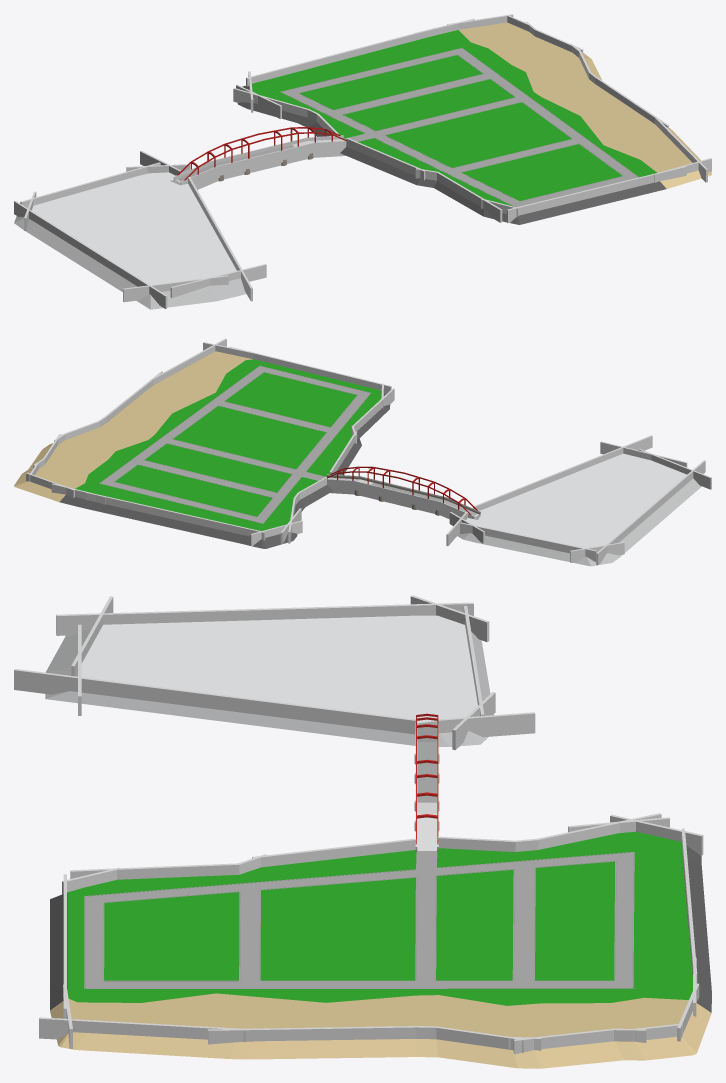
The model's file is map.gltf.
3 renders of one model, top to bottom at view 1: azimuth 30°, elevation 25°; view 2: azimuth 150°, elevation 25°; view 3: azimuth 270°, elevation 25°, orthographic. The views are drawn at different scales.
Parts seen in each view (by area): view 1: noCast, noCast.002, physics.025, physics.052, physics.043, physics.031, Cube, physics.056, physics.050, physics.051, physics.049, physics.021 (+4 smaller); view 2: noCast, noCast.002, physics.043, physics.051, Cube, physics.056, physics.025, physics.052, physics.030, physics.049, physics.027, physics.050 (+4 smaller); view 3: noCast, noCast.002, physics.051, physics.052, physics.028, physics.027, physics.021, physics.054, physics.022, noCast.001, physics.038, physics.047 (+7 smaller).
Part boxes in pixels (x1,y1,x2,y2): noCast: [237, 22, 711, 224]; noCast.002: [14, 172, 246, 309]; physics.025: [507, 166, 686, 223]; physics.052: [14, 201, 167, 308]; physics.043: [246, 28, 432, 86]; physics.031: [218, 142, 313, 176]; Cube: [177, 127, 346, 180]; physics.056: [20, 162, 160, 207]; physics.050: [170, 264, 266, 298]; physics.051: [188, 177, 252, 301]; physics.049: [123, 275, 228, 302]; physics.021: [346, 138, 425, 180]; noCast: [14, 351, 390, 548]; noCast.002: [457, 453, 701, 566]; physics.043: [86, 492, 265, 540]; physics.051: [473, 435, 652, 510]; Cube: [327, 466, 479, 514]; physics.056: [460, 522, 596, 562]; physics.025: [230, 346, 391, 394]; physics.052: [596, 460, 705, 565]; physics.030: [354, 481, 440, 511]; physics.049: [638, 449, 711, 489]; physics.027: [151, 338, 226, 384]; physics.050: [600, 441, 687, 467]; noCast: [50, 831, 711, 1068]; noCast.002: [45, 615, 493, 746]; physics.051: [14, 669, 415, 734]; physics.052: [56, 602, 473, 635]; physics.028: [208, 1026, 416, 1044]; physics.027: [39, 1017, 245, 1041]; physics.021: [252, 838, 416, 867]; physics.054: [438, 712, 535, 737]; physics.022: [70, 863, 239, 879]; noCast.001: [417, 727, 436, 802]; physics.038: [513, 1028, 613, 1054]; physics.047: [538, 813, 661, 849].
Size of the model in its own units: 652 by 38.92 by 424.
